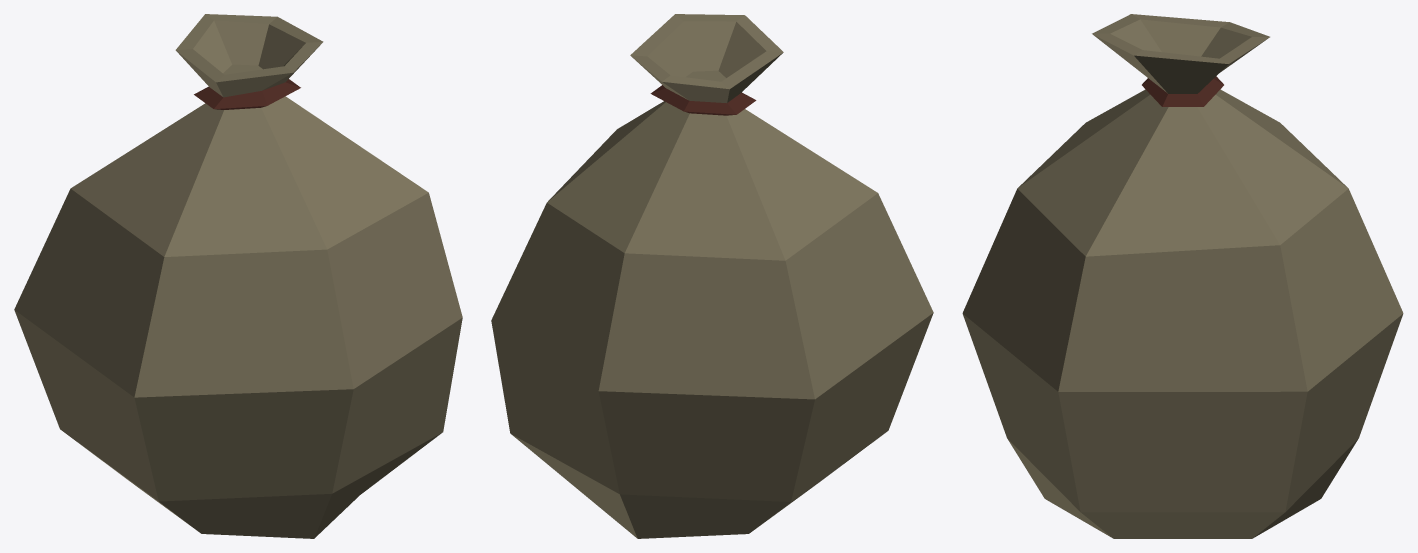
Rendered from bagt.fbx.
3 views of the same model, side by side, from view 1: azimuth 30°, elevation 25°; view 2: azimuth 150°, elevation 25°; view 3: azimuth 270°, elevation 25° (orthographic). The views are drawn at different scales.
Visible parts, largest first — view 1: Cylinder; view 2: Cylinder; view 3: Cylinder.
Part boxes in pixels (x1,y1,x2,y2): Cylinder: (14, 14, 462, 538); Cylinder: (491, 14, 933, 538); Cylinder: (962, 14, 1403, 538).
Size of the model in its own units: 1.43 by 1.88 by 1.6.
